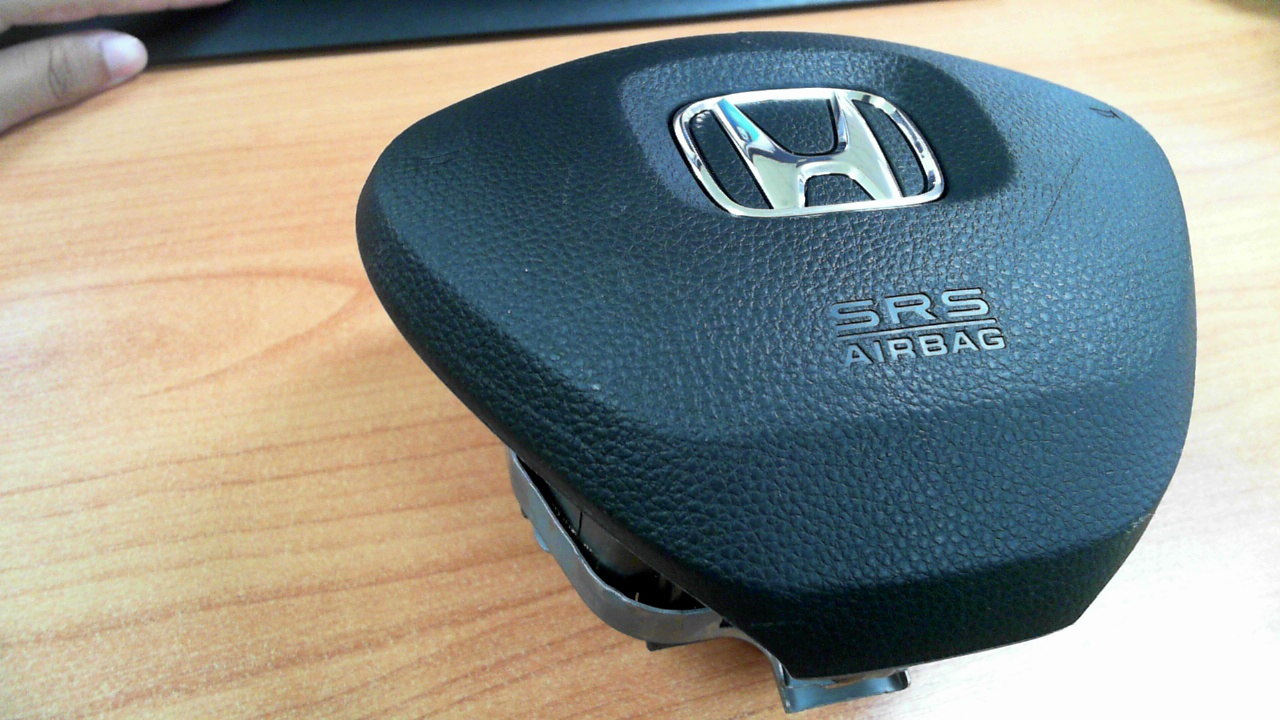Airbag: (355, 30, 1200, 714)
Honda: (667, 87, 945, 218)
